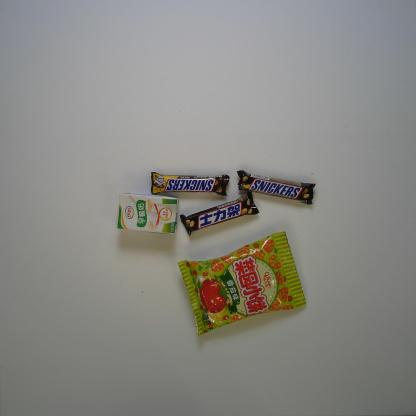Chocolate: (179, 191, 260, 237), (236, 169, 316, 206), (150, 171, 230, 197)
Milk: (116, 192, 180, 235)
Puffed Food: (177, 230, 308, 338)
